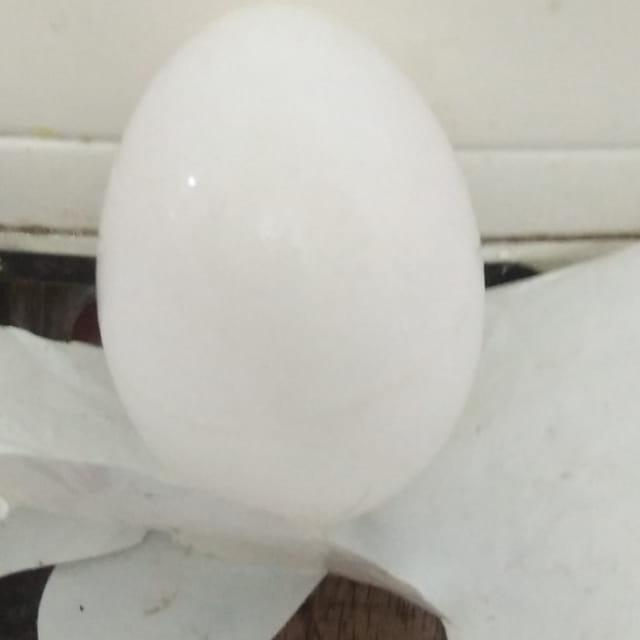egg: (88, 0, 489, 529)
